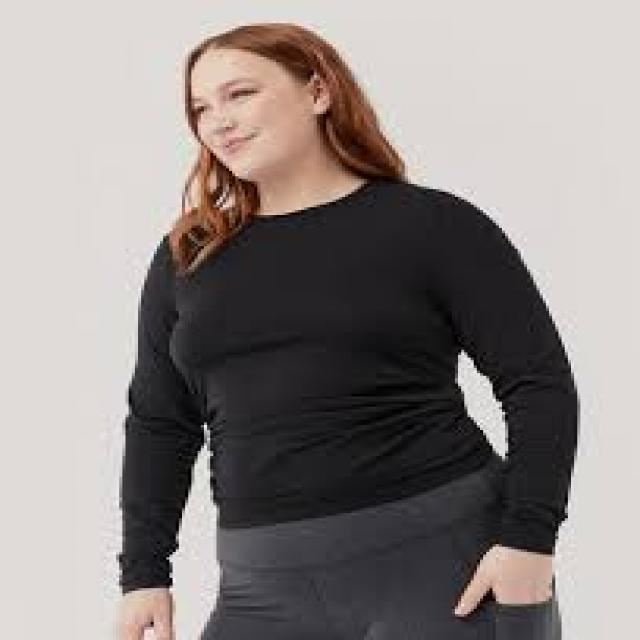plain: (96, 182, 580, 515)
